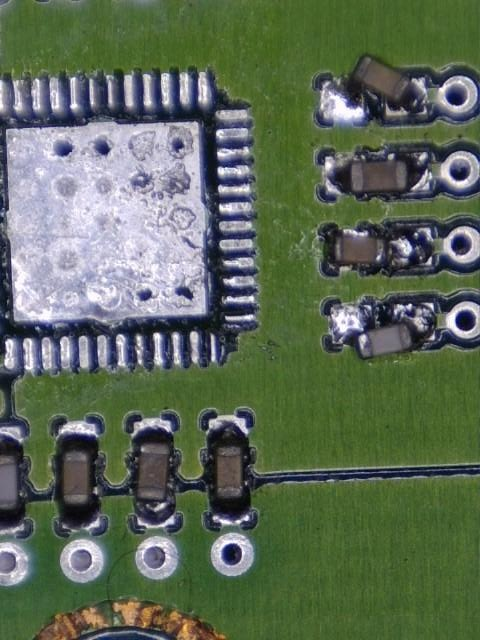pcb_defect: (320, 55, 428, 121), (330, 302, 435, 359), (328, 225, 434, 269)
